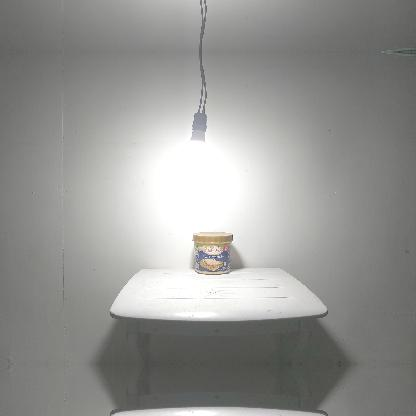Lady-s-Choice: (191, 230, 233, 275)
